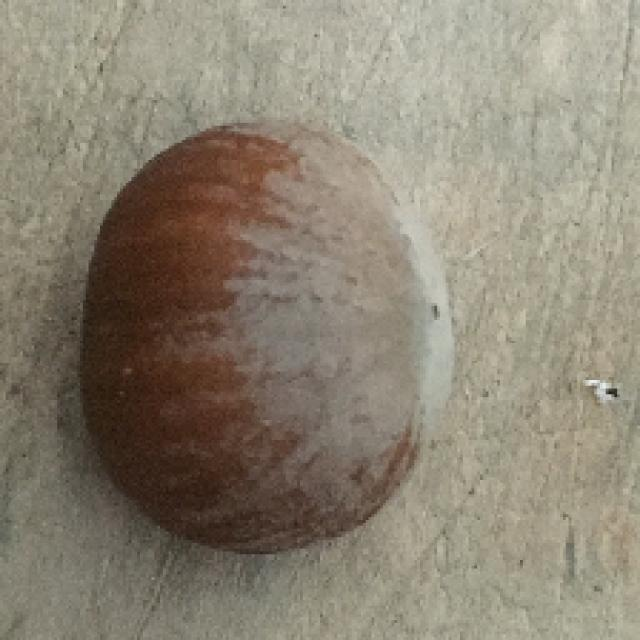QualityHazelnut: (82, 120, 455, 559)
